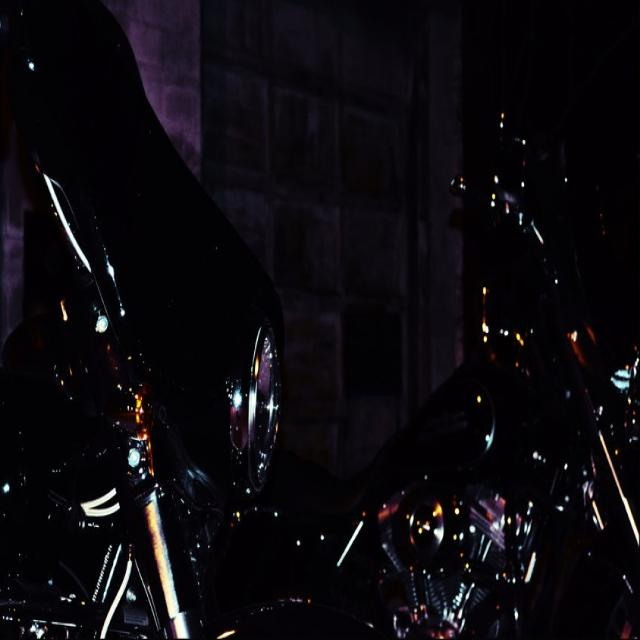Motorbike: (10, 133, 640, 640)
